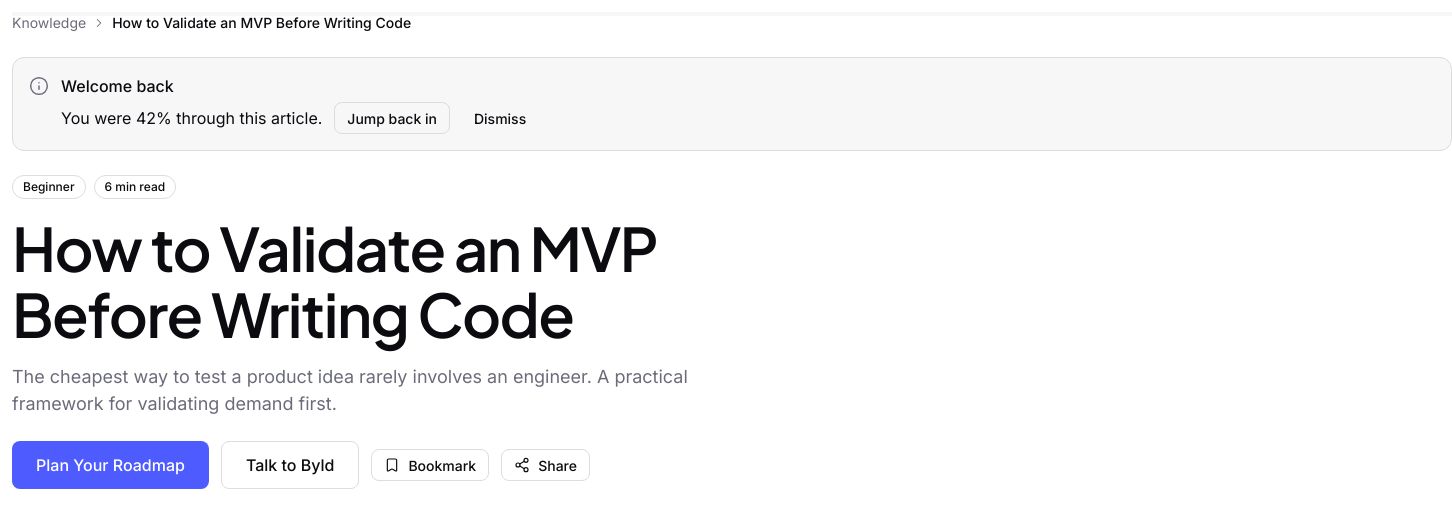
Test: KnowledgeArticleHero › shows a 'jump back in' banner when there's meaningful saved progress, and dismisses it
The image size is (1452, 506).
Expected: the text "You were 42% through this article." is shown, left=61, top=106, right=322, bottom=130
Click the button "Dismiss" at (500, 118), box left=462, top=102, right=538, bottom=134
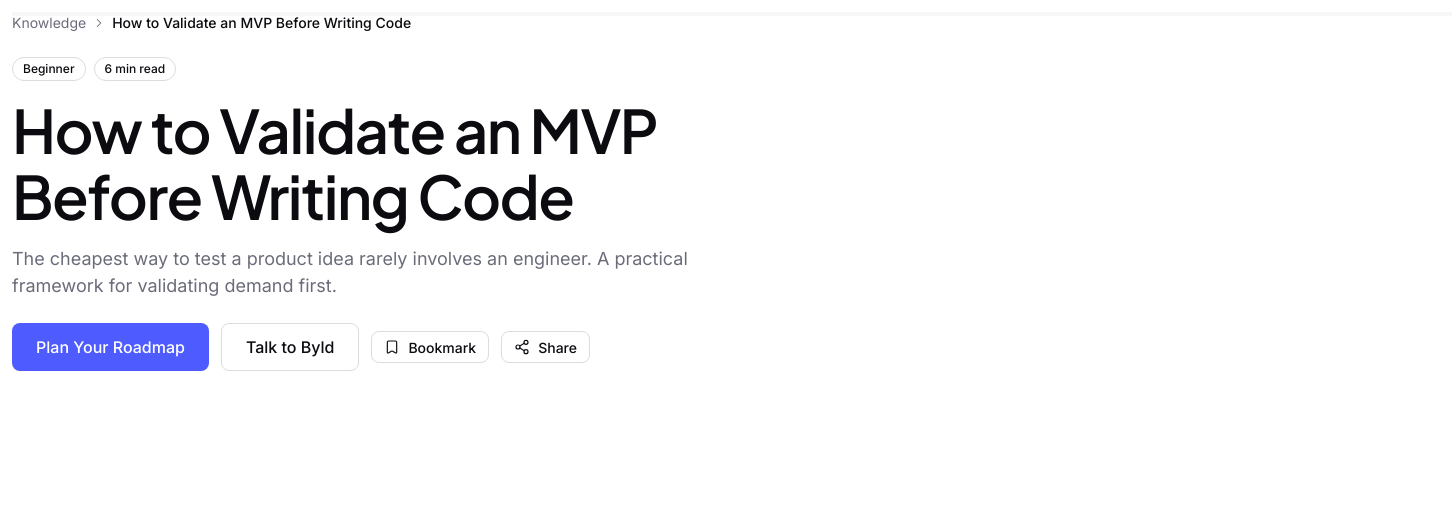
Expected: the text "You were 42% through this article" is gone
